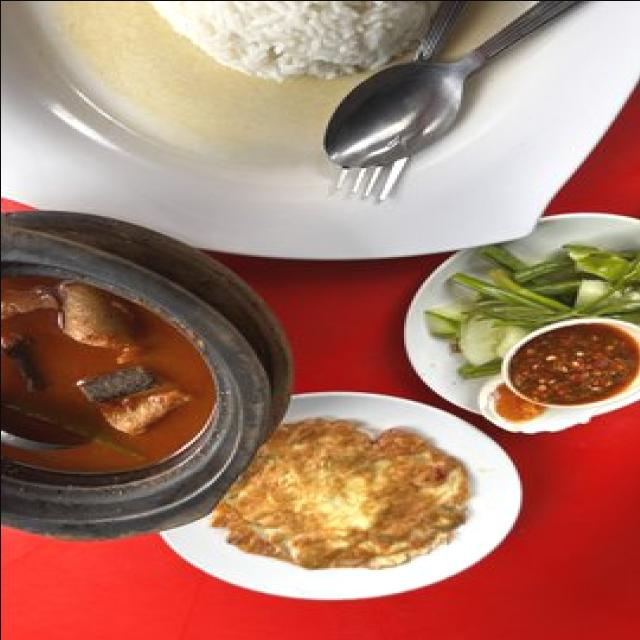telur dadar: (201, 414, 474, 571)
